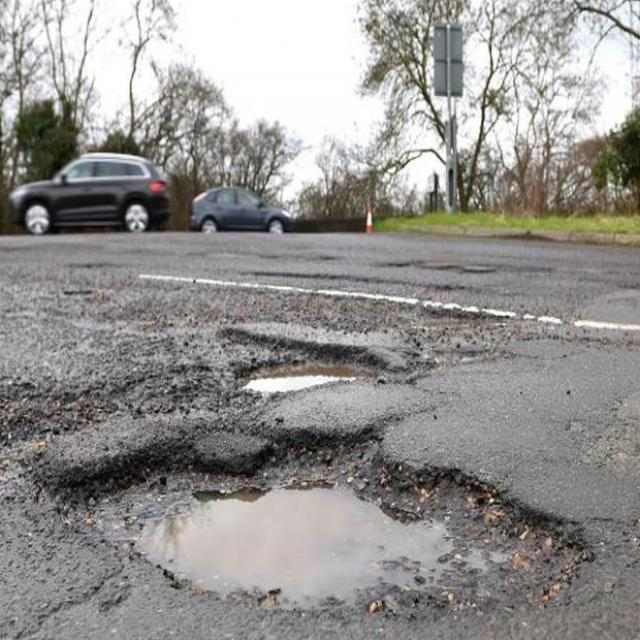Lubang: (48, 437, 596, 629), (237, 354, 389, 396)
